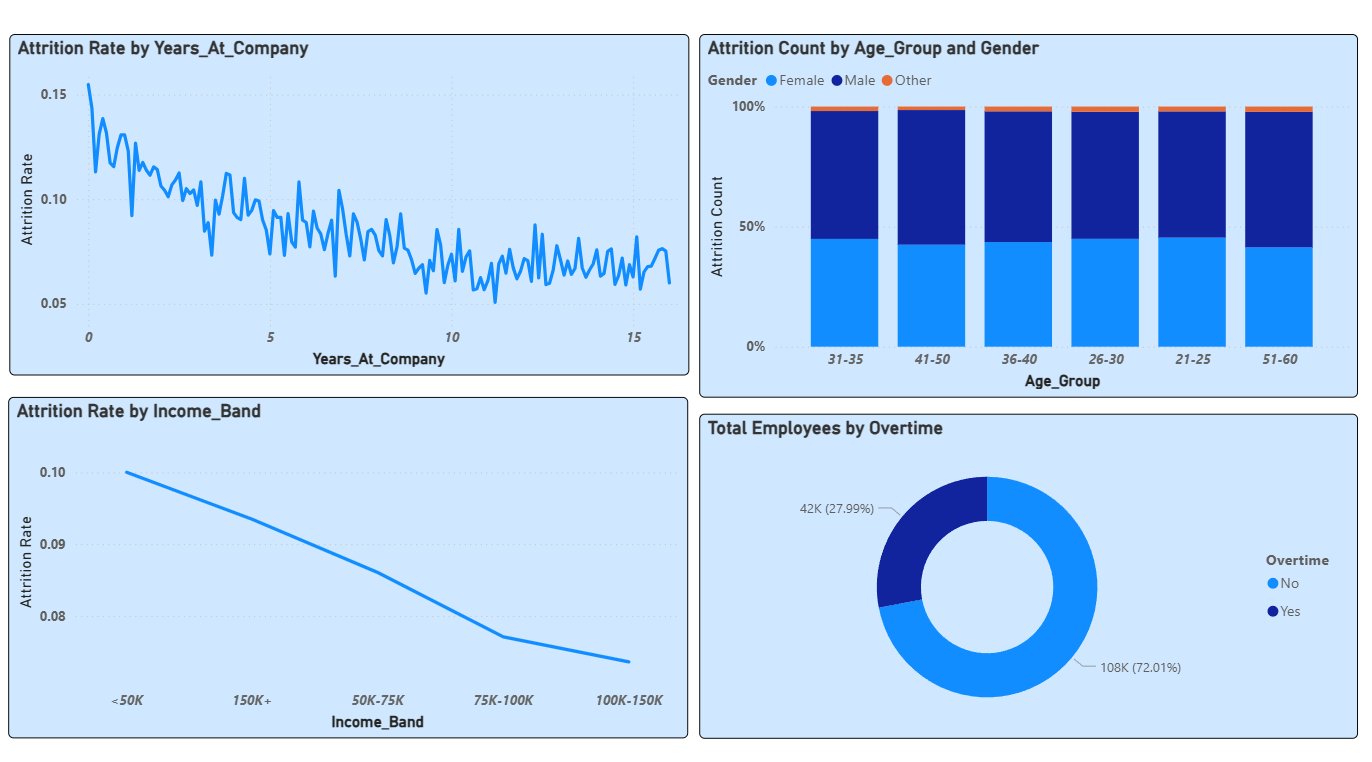

Layout of this report page (visuals, bound fields, positions):
{"tool":"powerbi","page":{"name":"Page 2","canvas":[1280,720],"ordinal":1},"visuals":[{"type":"donutChart","fields":{"Category":["HR_Employee_Attrition_150K.Overtime"],"Y":["HR_Employee_Attrition_150K.Total Employees"]},"box":[650.3,394.9,609.9,301.2],"z":2000},{"type":"lineChart","fields":{"Category":["HR_Employee_Attrition_150K.Years_At_Company"],"Y":["HR_Employee_Attrition_150K.Attrition Rate"]},"box":[11.7,43.6,629,316.1],"z":2001},{"type":"hundredPercentStackedColumnChart","fields":{"Category":["HR_Employee_Attrition_150K.Age_Group"],"Y":["HR_Employee_Attrition_150K.Attrition Count"],"Series":["HR_Employee_Attrition_150K.Gender"]},"box":[650.3,43.6,609.9,336.3],"z":2002},{"type":"lineChart","fields":{"Category":["HR_Employee_Attrition_150K.Income_Band"],"Y":["HR_Employee_Attrition_150K.Attrition Rate"]},"box":[10.6,380,629,316.1],"z":2003}]}

Visuals, with their boxes in screenshot pixels (x1, y1, x2, y2), scaled from the page's 1280x720 canvas onto the 1372x762 screenshot:
donutChart - HR_Employee_Attrition_150K.Overtime x HR_Employee_Attrition_150K.Total Employees: 697/418/1351/737
lineChart - HR_Employee_Attrition_150K.Years_At_Company x HR_Employee_Attrition_150K.Attrition Rate: 13/46/687/381
hundredPercentStackedColumnChart - HR_Employee_Attrition_150K.Age_Group x HR_Employee_Attrition_150K.Attrition Count: 697/46/1351/402
lineChart - HR_Employee_Attrition_150K.Income_Band x HR_Employee_Attrition_150K.Attrition Rate: 11/402/686/737
